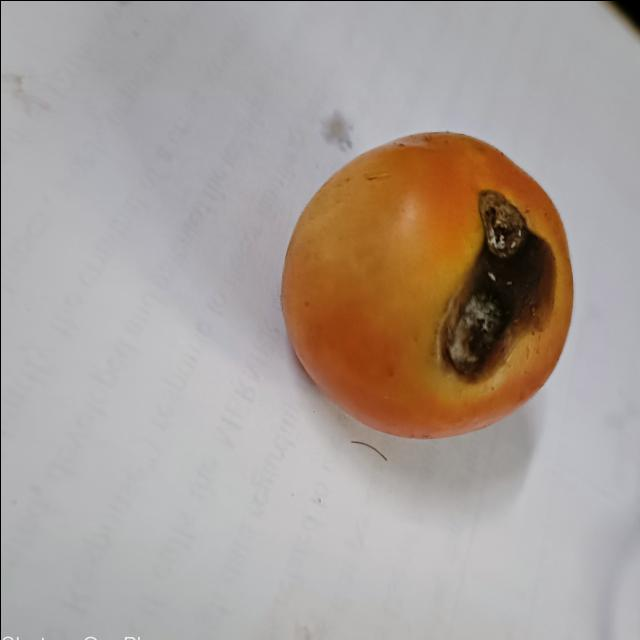Anthrocnose: (438, 186, 556, 382)
